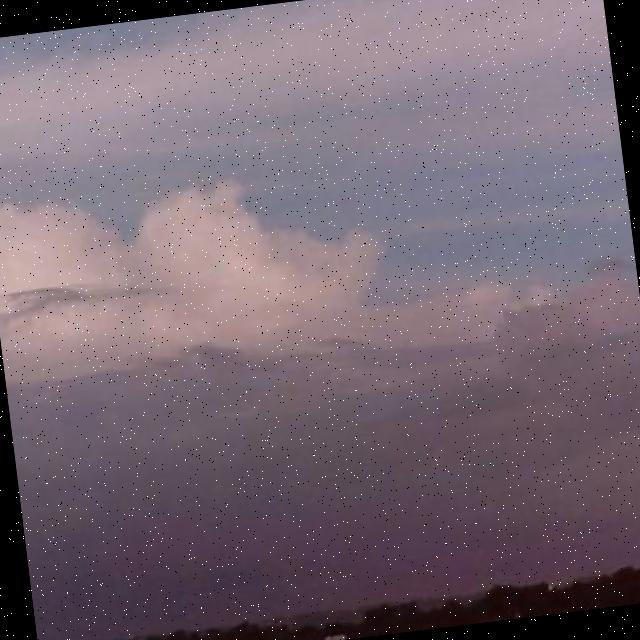Cs: (1, 45, 640, 587)
